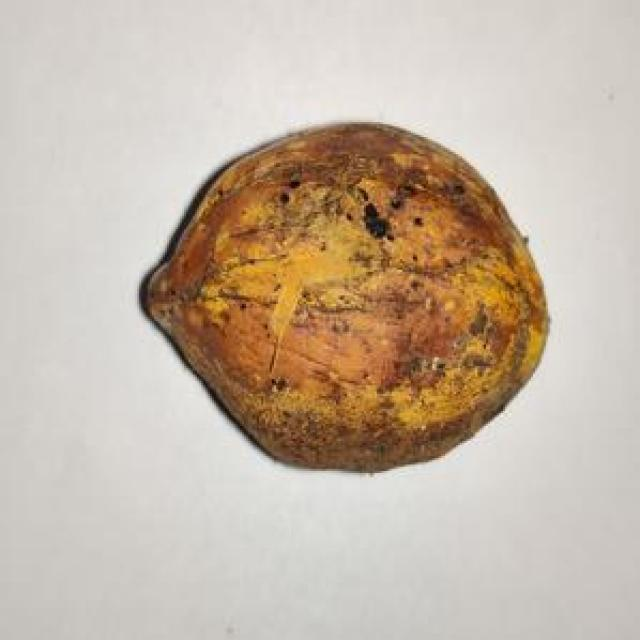good: (143, 122, 546, 471)
